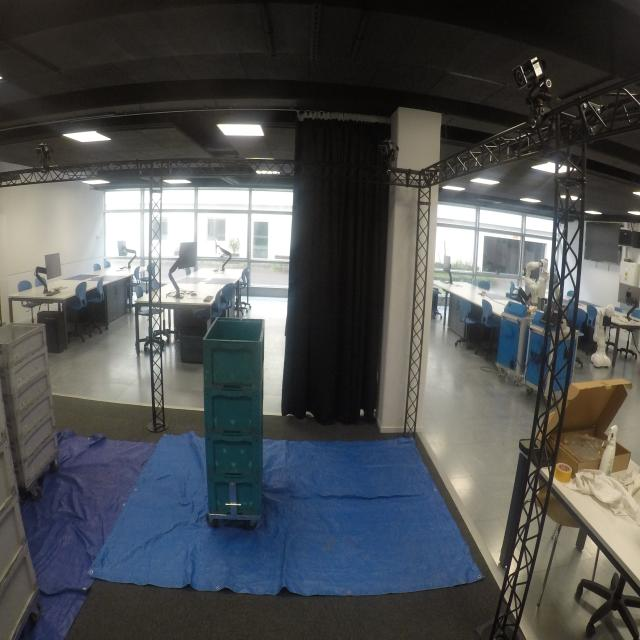BoxB4: (201, 315, 263, 390), (202, 387, 262, 437), (207, 473, 264, 518), (204, 435, 262, 479)
